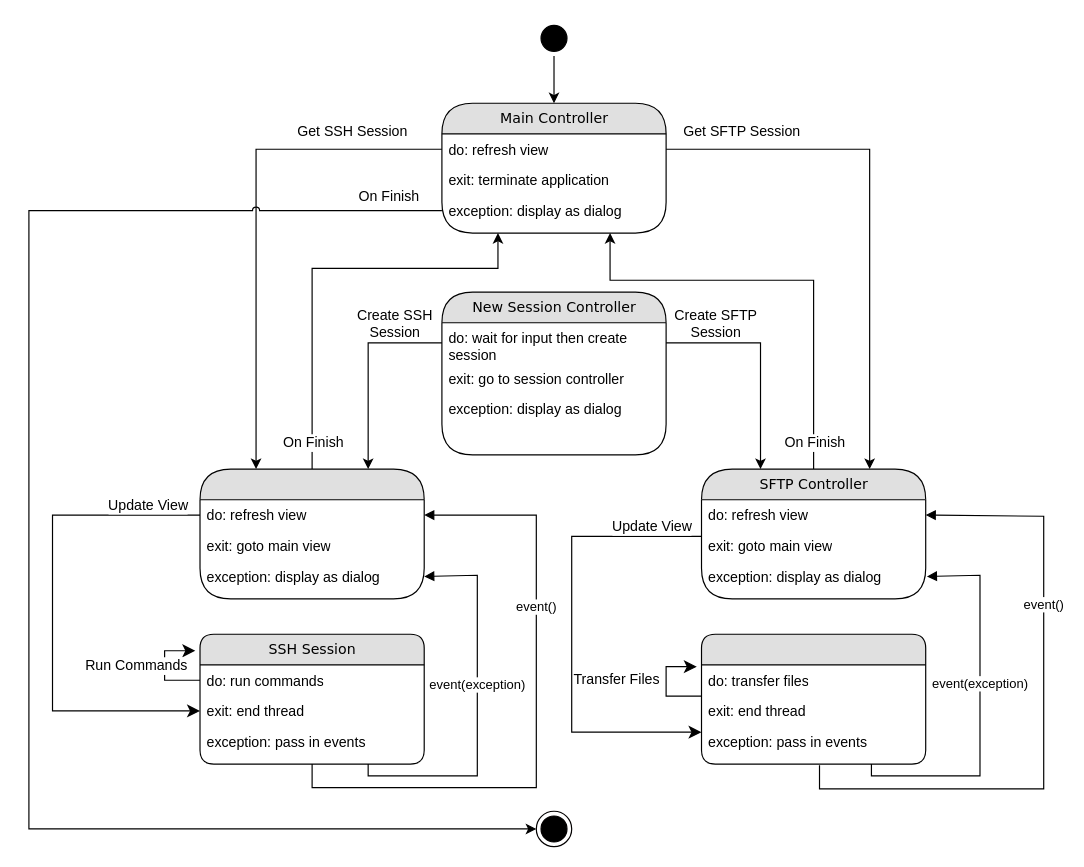
Some shapes in this 1084 by 867 pixel diagram are drawn without their labels. Here are the shapes that lost their labels. From the top down, the box of each, then its label:
(199, 468, 424, 599): SSH Controller
(700, 633, 926, 764): SFTP Session
